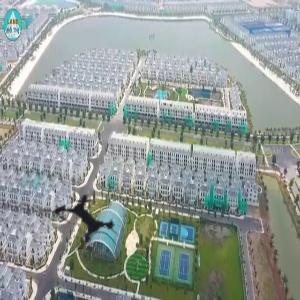drone: (17, 155, 149, 287)
